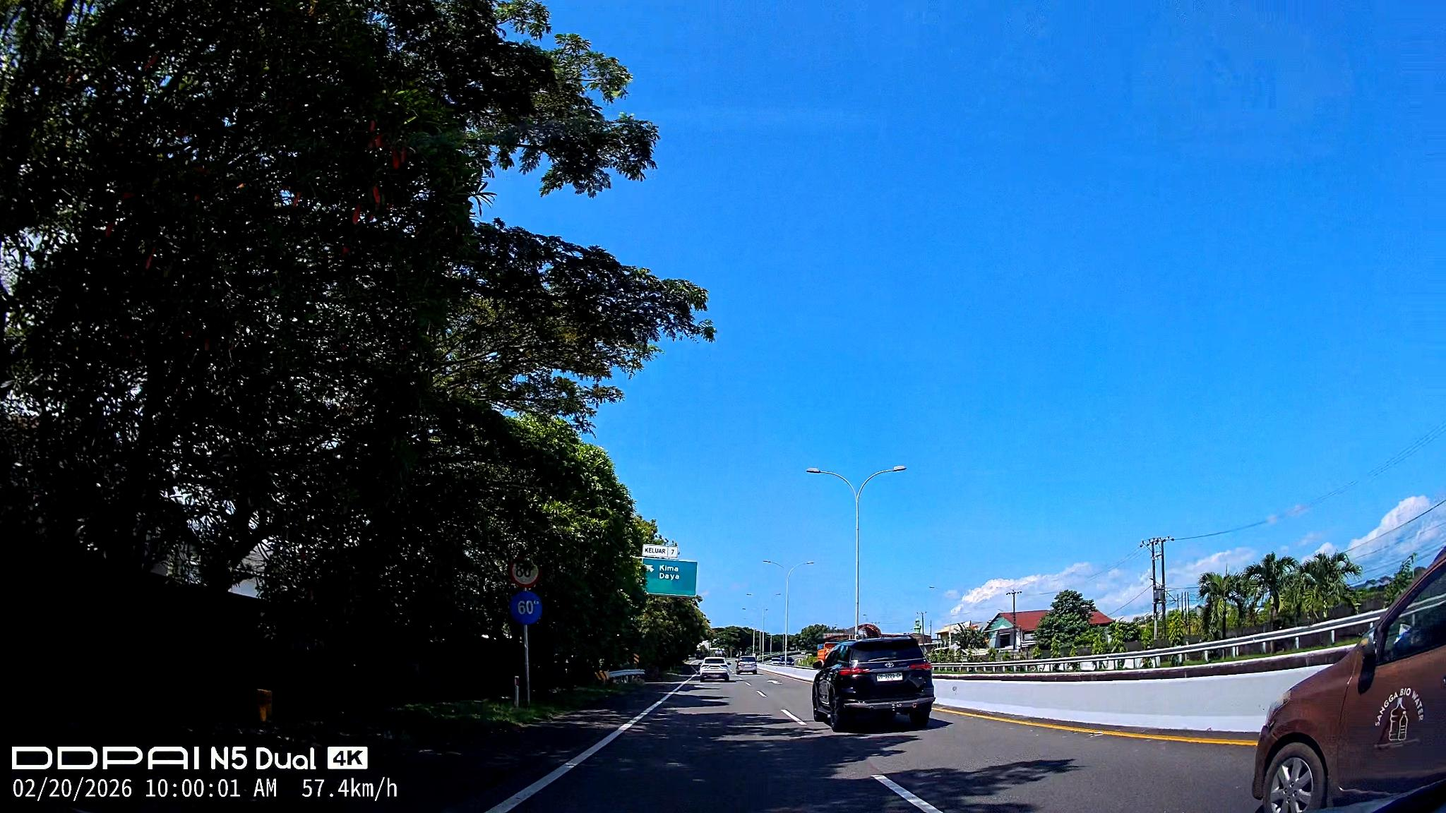rambu_teks: (642, 557, 698, 597)
